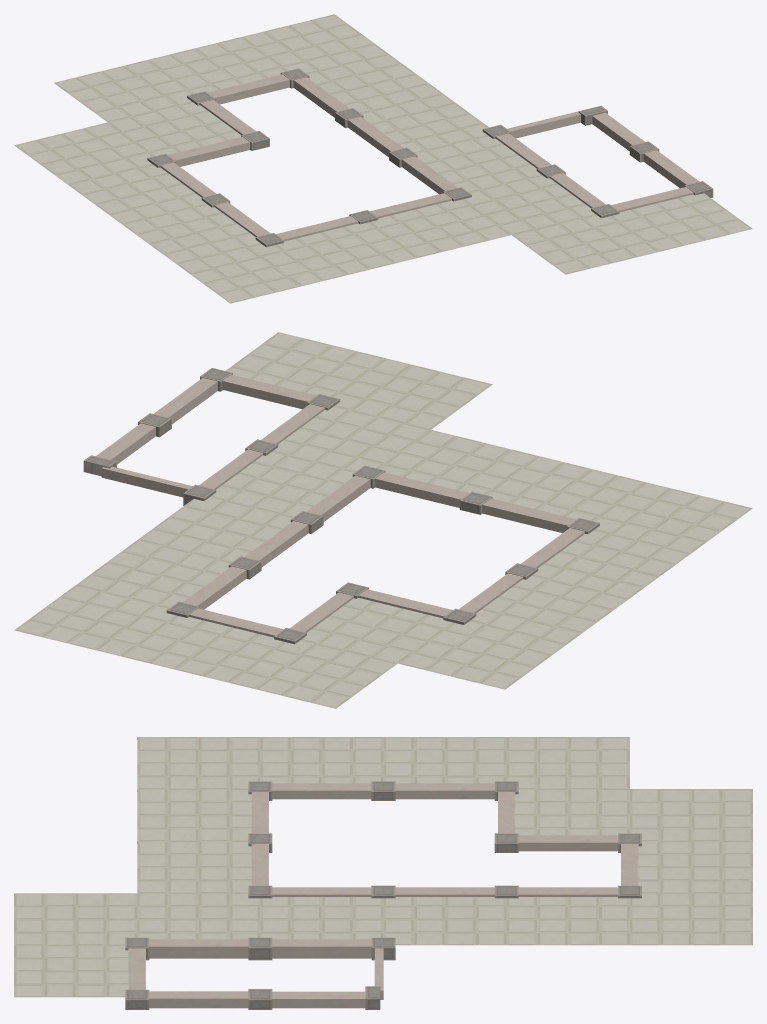
The model's file is Homeworld_Interior_Fd_Room_F_Floor_01_Vo.fbx.
The picture shows the model from 3 angles, top to bottom: view 1: azimuth 30°, elevation 25°; view 2: azimuth 150°, elevation 25°; view 3: azimuth 270°, elevation 25°; orthographic projection. The views are drawn at different scales.
Visible parts, largest first — view 1: Homeworld_Interior_Fd_Room_Floor_01_Vo (×16), Homeworld_Interior_Fd_Room_F_Floor_01_Vo; view 2: Homeworld_Interior_Fd_Room_Floor_01_Vo (×16), Homeworld_Interior_Fd_Room_F_Floor_01_Vo; view 3: Homeworld_Interior_Fd_Room_Floor_01_Vo (×16), Homeworld_Interior_Fd_Room_F_Floor_01_Vo.
Boxes of the visible parts, box(x1,y1,x2,y2) form: Homeworld_Interior_Fd_Room_Floor_01_Vo (×16): box(14, 14, 752, 303); Homeworld_Interior_Fd_Room_F_Floor_01_Vo: box(147, 68, 713, 247); Homeworld_Interior_Fd_Room_Floor_01_Vo (×16): box(14, 332, 752, 708); Homeworld_Interior_Fd_Room_F_Floor_01_Vo: box(83, 368, 599, 644); Homeworld_Interior_Fd_Room_Floor_01_Vo (×16): box(14, 737, 752, 997); Homeworld_Interior_Fd_Room_F_Floor_01_Vo: box(125, 781, 641, 1009).
Bounding box in the file's own units: 25.49 × 0.6038 × 30.
